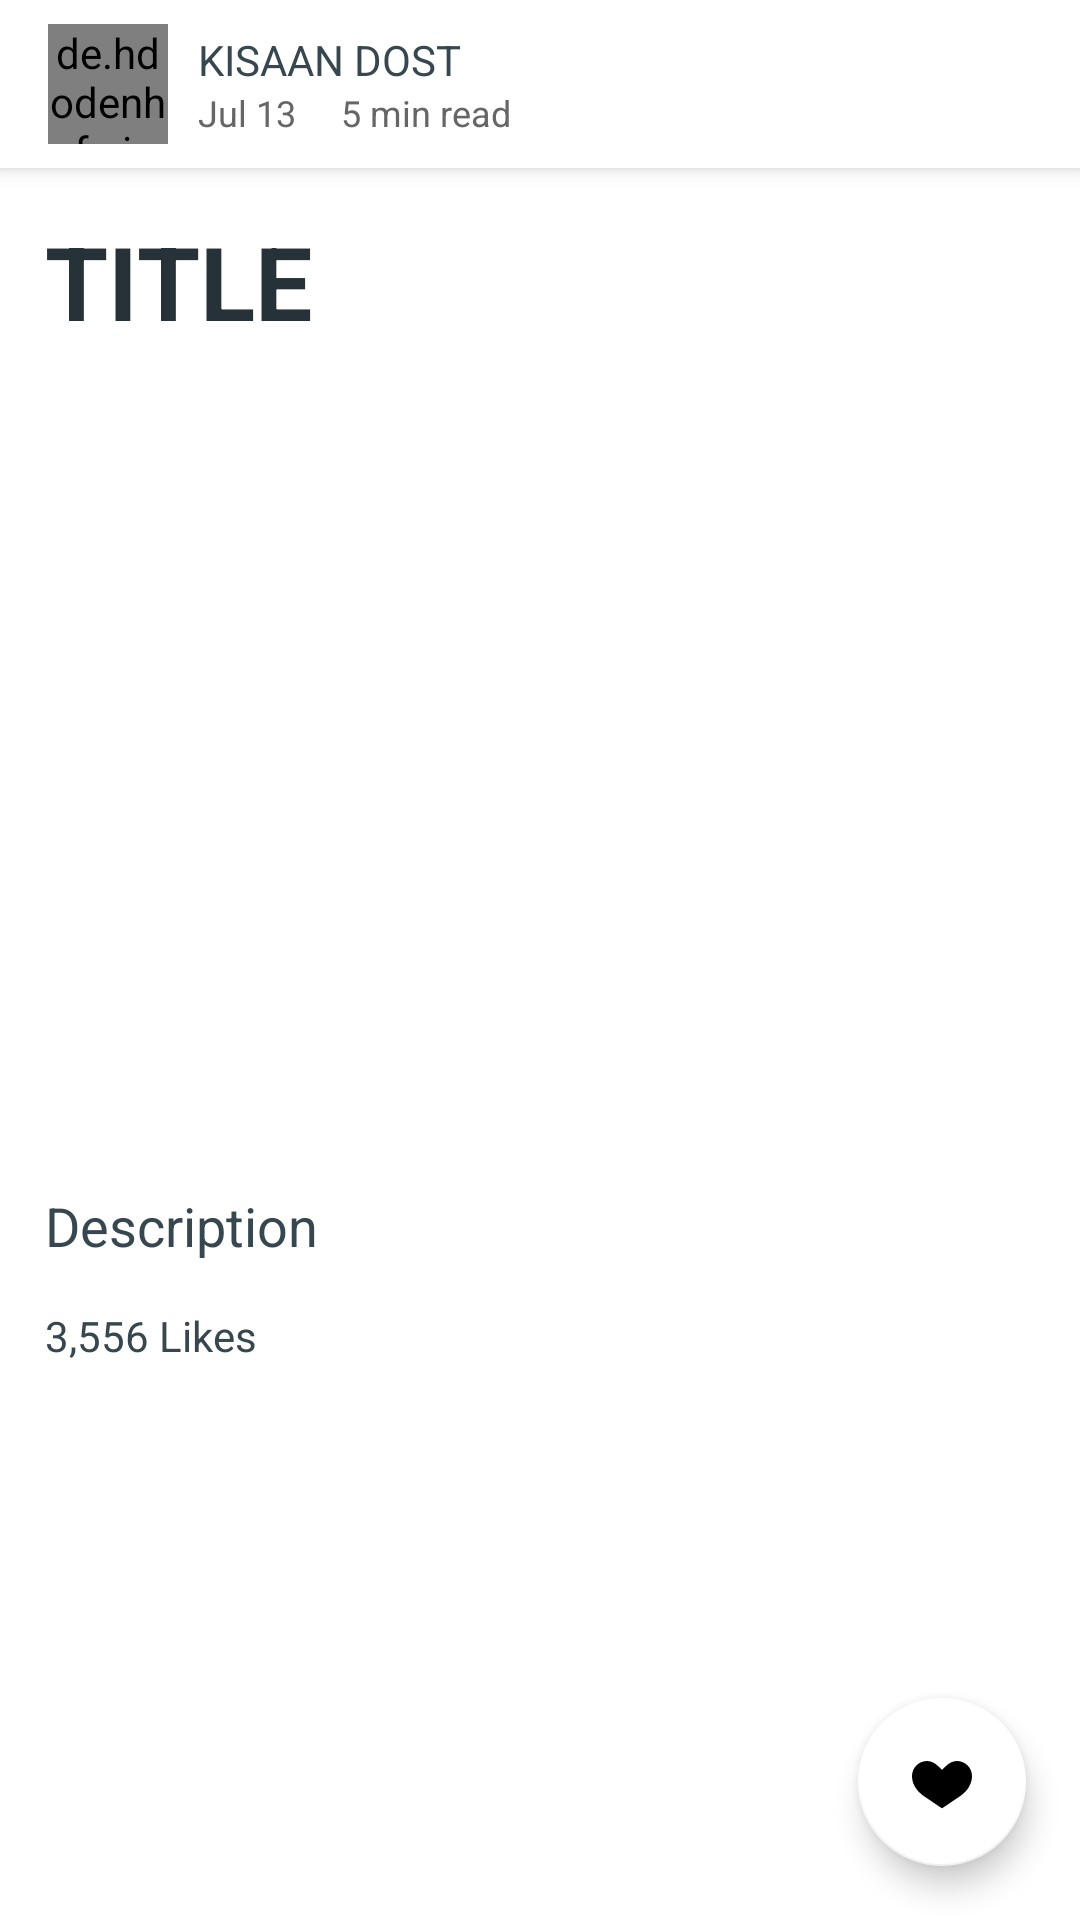

Screen size 1080px x 1920px. Icon name, then its center in pixels as point (x, y):
favorite border: point (917, 1788)
